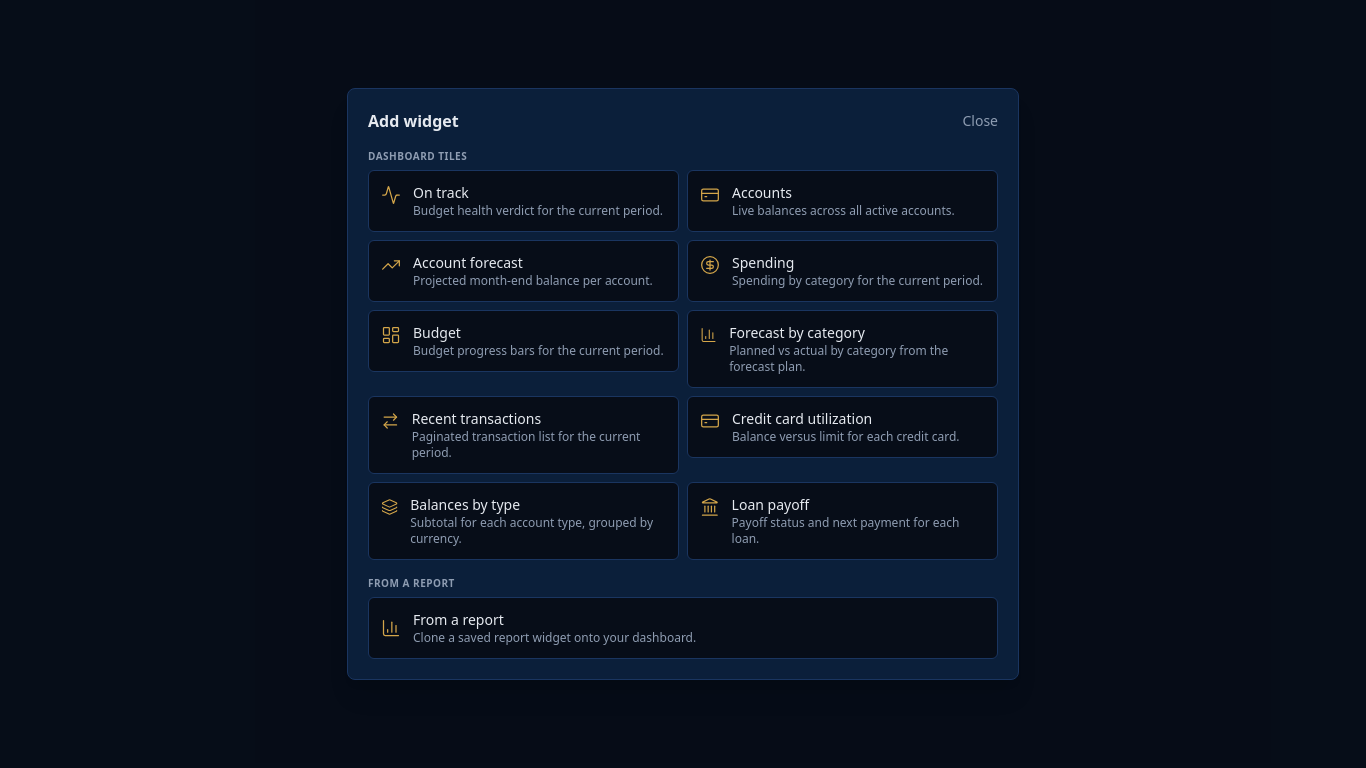
Test: AddWidgetMenu — From a report › shows 'You have no saved reports yet.' when listReports returns empty
Click the button "From a report" at coordinates (683, 628), box left=368, top=597, right=998, bottom=659
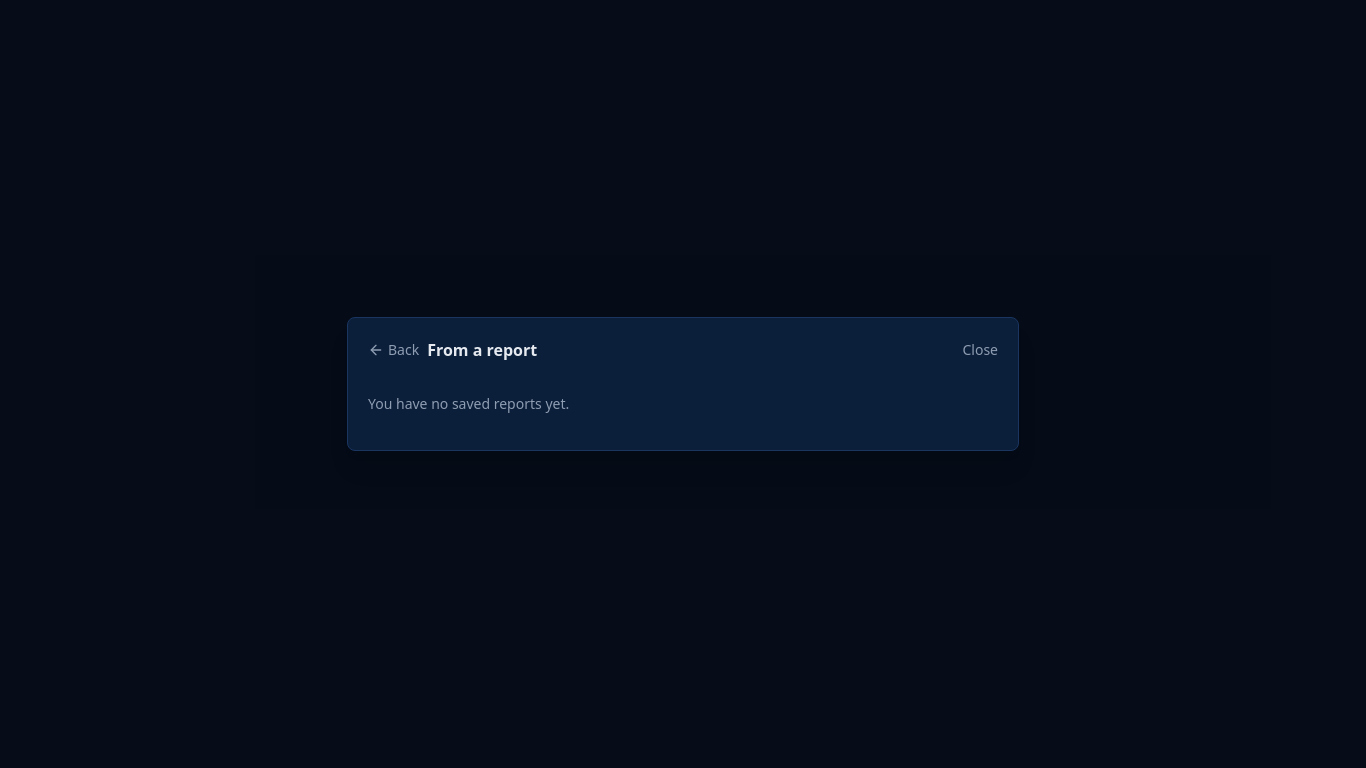
Check: the text "You have no saved reports yet." is shown, box left=368, top=394, right=569, bottom=413
